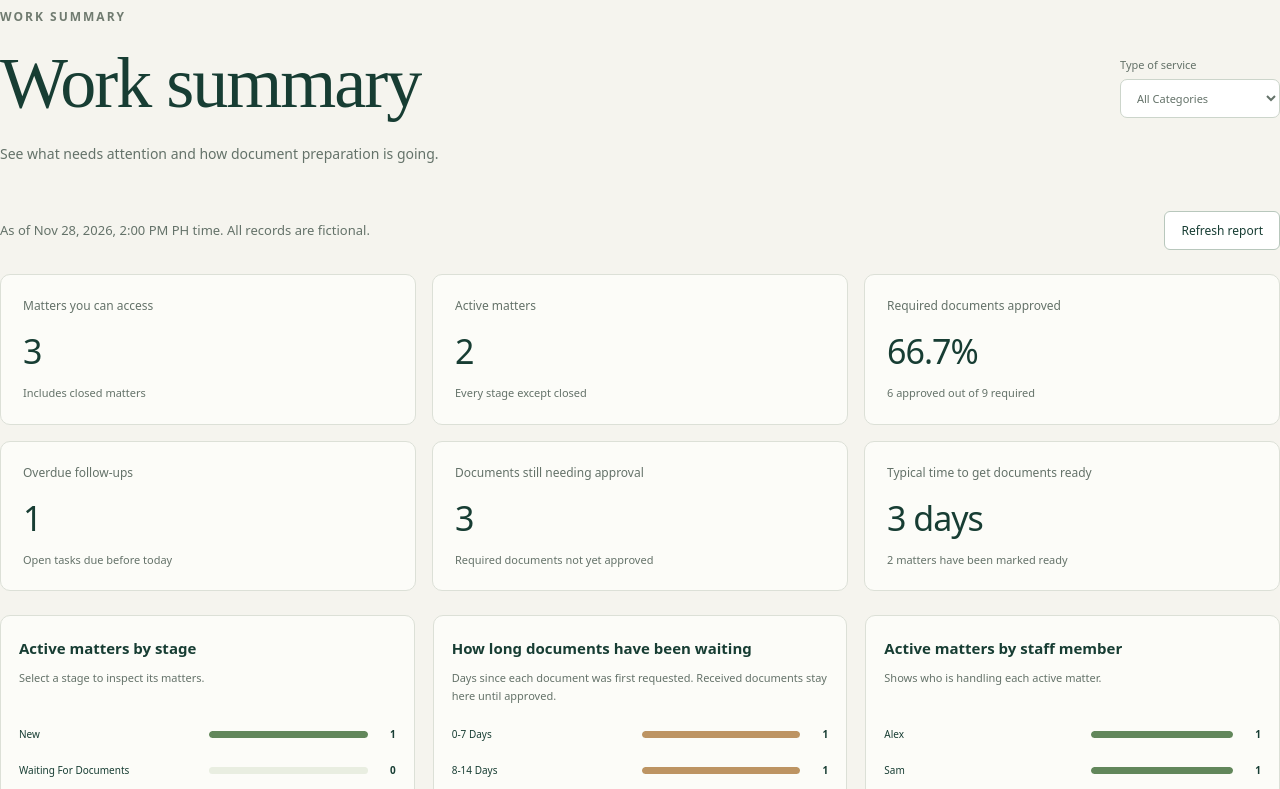
it: metric drill-downs reconcile with active scope, median cohort and overdue dates
This screenshot has width=1280, height=789.
Later steps or results of the test are not shown.
Click the button "Active matters 2 Every stage except closed" at (495, 305), box [432,274,848,424]
Click the button that starts with "Typical time to get documents ready" at (989, 472), box [864,440,1279,591]
Click the button "Overdue follow-ups 1 Open tasks due before today" at (78, 472), box [0,440,416,591]
(page scrolled)
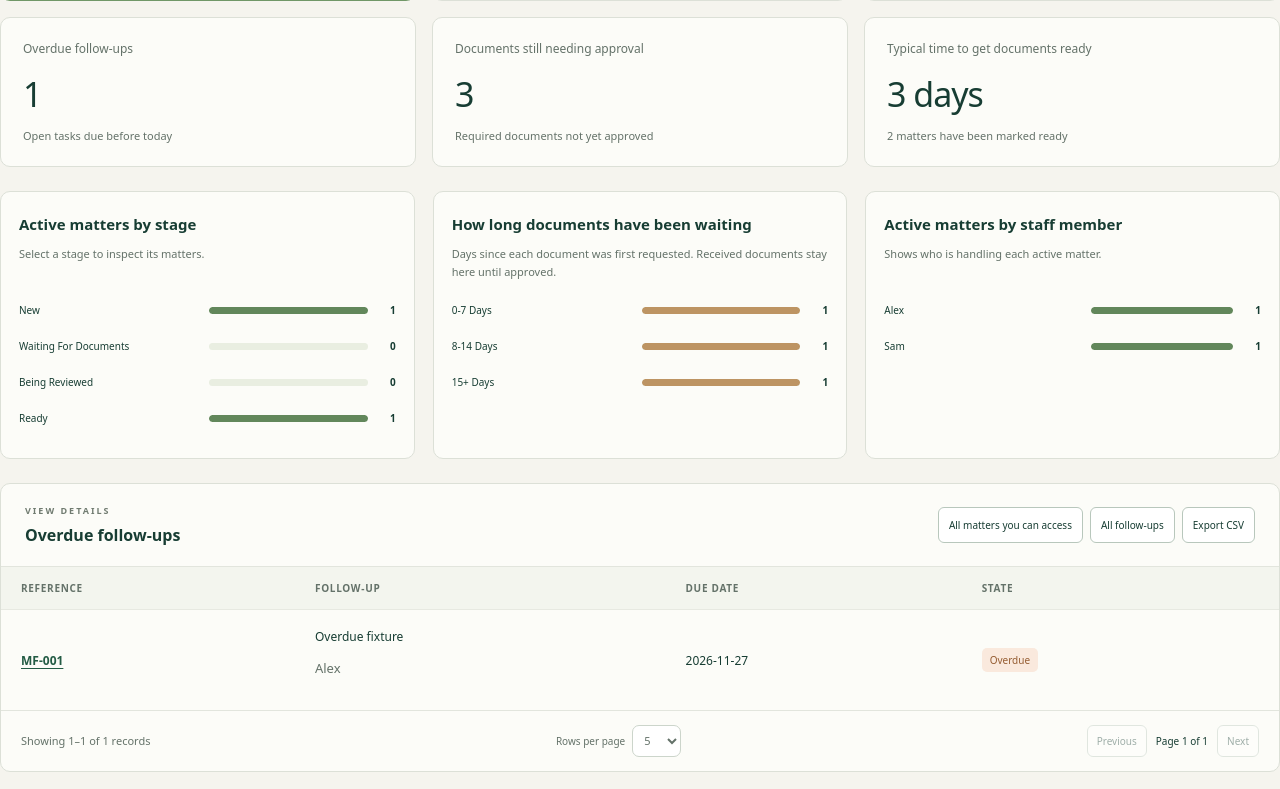
Expected: the button "All follow-ups" is shown, [1090,507,1175,543]
Result: the row "MF-001 Overdue fixture Alex 2026-11-27 Overdue" is shown at [1,610,1279,710]
